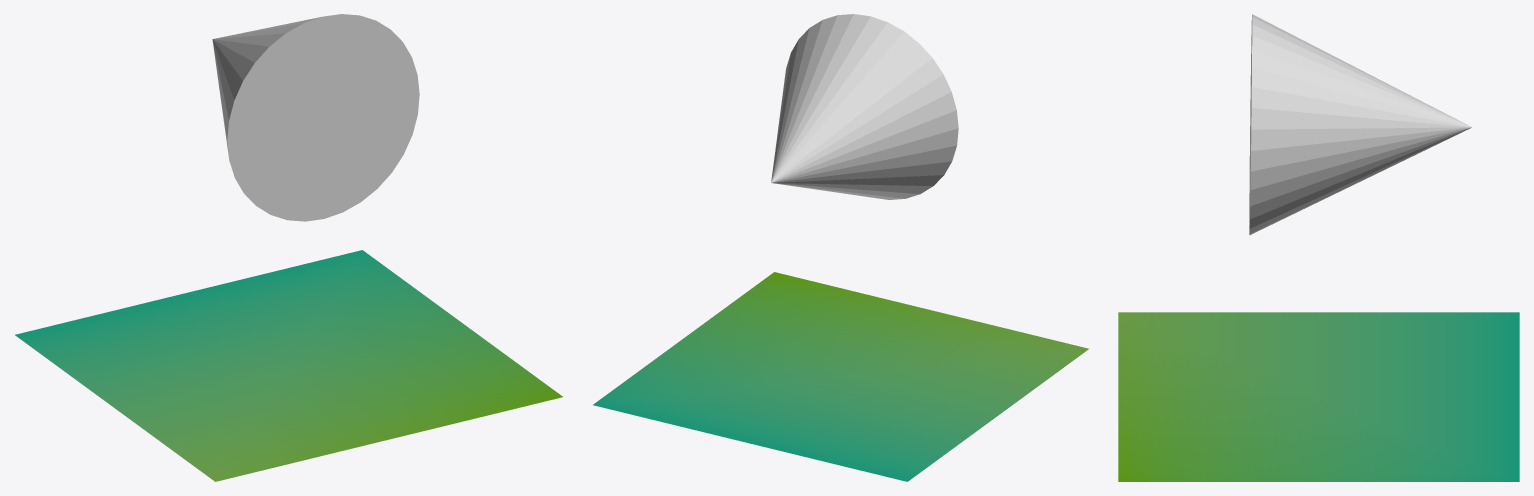
The model's file is MMO_Tile_Base.glb.
The picture shows the model from 3 angles, left to right: view 1: azimuth 30°, elevation 25°; view 2: azimuth 150°, elevation 25°; view 3: azimuth 270°, elevation 25°; orthographic projection. The views are drawn at different scales.
Visible parts, largest first — view 1: Plane, Cone; view 2: Plane, Cone; view 3: Plane, Cone.
Boxes of the visible parts, <box> form: Plane: <box>15,250,562,481</box>; Cone: <box>212,14,419,221</box>; Plane: <box>593,272,1089,481</box>; Cone: <box>771,14,958,199</box>; Plane: <box>1118,312,1519,481</box>; Cone: <box>1249,14,1471,235</box>.
Bounding box in the file's own units: 1 × 1.03 × 1.
